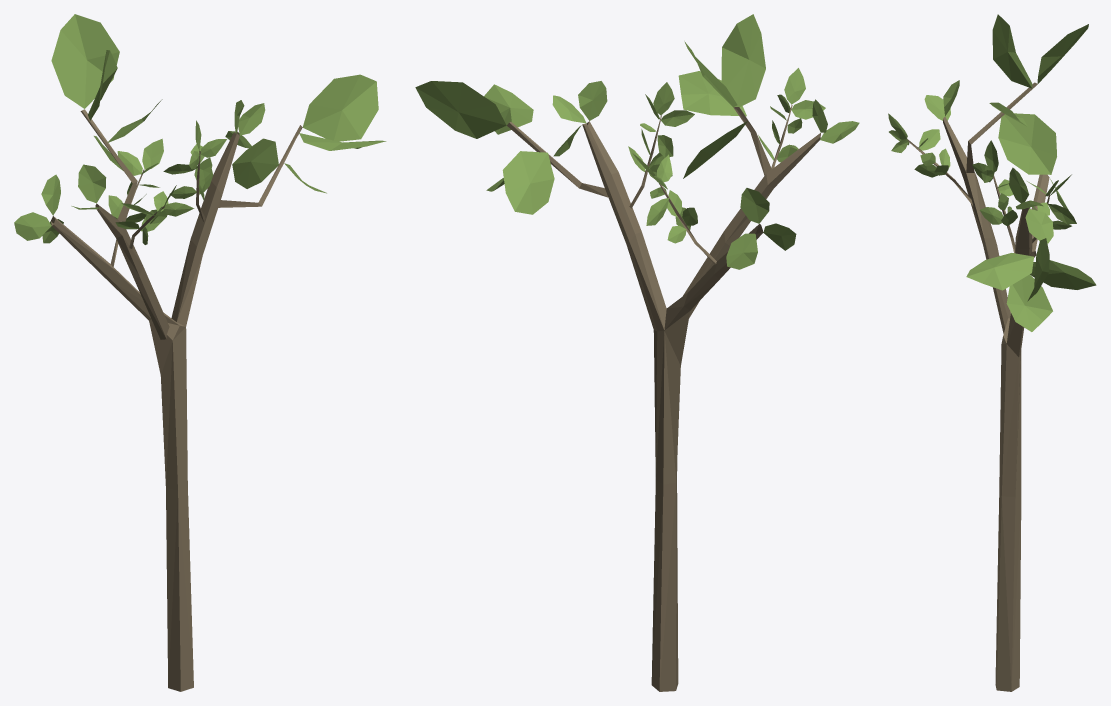
Rendered from Cherry_2_1.fbx.
The picture shows the model from 3 angles, left to right: view 1: azimuth 30°, elevation 25°; view 2: azimuth 150°, elevation 25°; view 3: azimuth 270°, elevation 25°; orthographic projection. The views are drawn at different scales.
Visible parts, largest first — view 1: Cherry_2_1; view 2: Cherry_2_1; view 3: Cherry_2_1.
Boxes of the visible parts, x1,y1,x2,y2 form: Cherry_2_1: (14, 14, 386, 691); Cherry_2_1: (415, 14, 859, 691); Cherry_2_1: (888, 14, 1096, 691).
Size of the model in its own units: 163 by 282 by 83.65.
